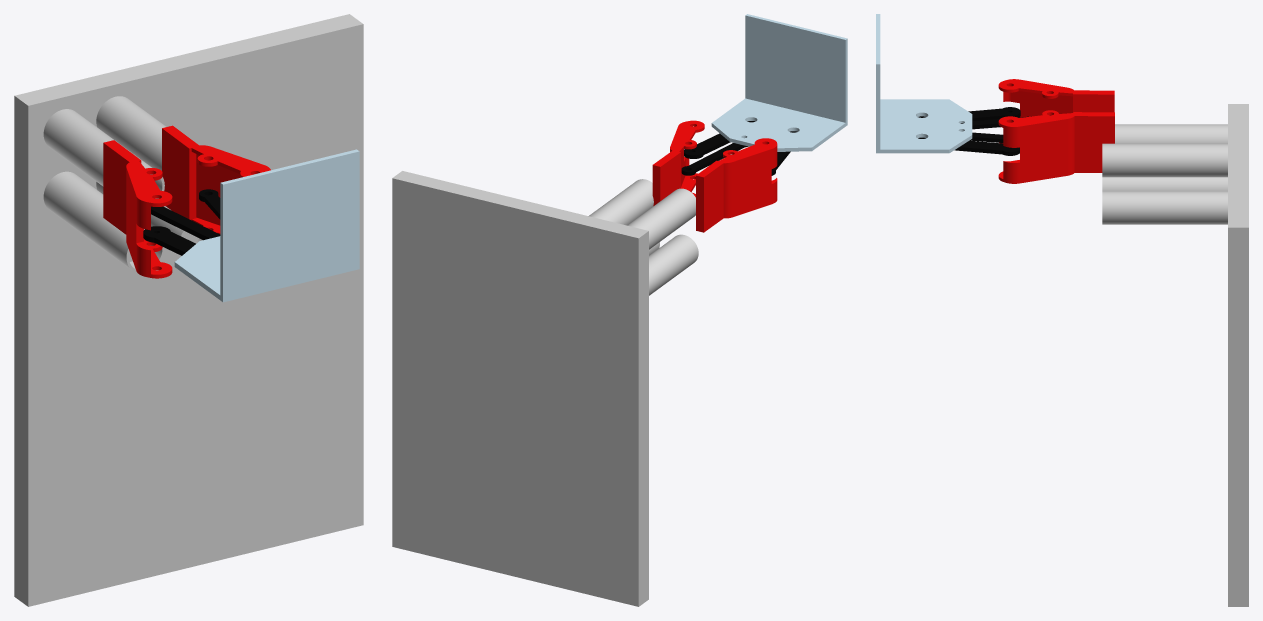
Rendered from Gripper.gltf.
The picture shows the model from 3 angles, left to right: view 1: azimuth 30°, elevation 25°; view 2: azimuth 150°, elevation 25°; view 3: azimuth 270°, elevation 25°; orthographic projection. The views are drawn at different scales.
Visible parts, largest first — view 1: Part 1 (×6); view 2: Part 1 (×4); view 3: Part 1 (×6).
Boxes of the visible parts, x1=… form: Part 1 (×6): x1=14, y1=14, x2=363, y2=606; Part 1 (×4): x1=392, y1=14, x2=847, y2=606; Part 1 (×6): x1=876, y1=14, x2=1248, y2=606.
Bounding box in the file's own units: 0.1558 × 0.2402 × 0.1782.
